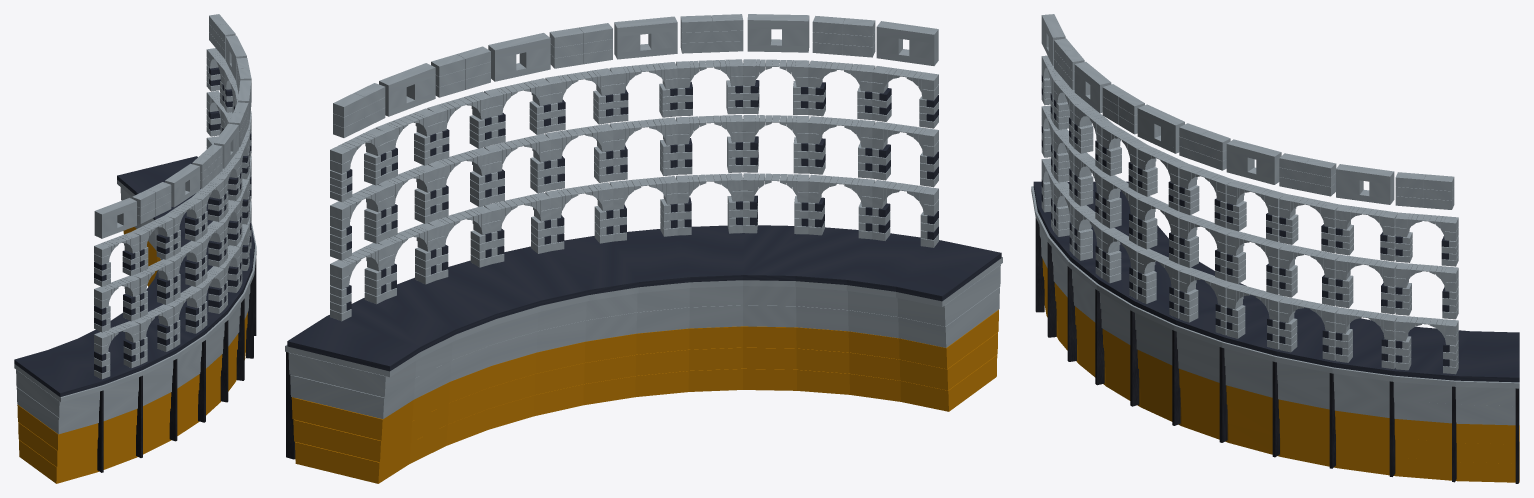
Rendered from COL_StoneMasonry_Q1.glb.
The picture shows the model from 3 angles, left to right: view 1: azimuth 30°, elevation 25°; view 2: azimuth 150°, elevation 25°; view 3: azimuth 270°, elevation 25°; orthographic projection. The views are drawn at different scales.
Parts seen in each view (by area): view 1: COL_StoneMasonry_Q1; view 2: COL_StoneMasonry_Q1; view 3: COL_StoneMasonry_Q1.
Boxes of the visible parts, bbox=[...] form: COL_StoneMasonry_Q1: bbox=[14, 14, 256, 483]; COL_StoneMasonry_Q1: bbox=[285, 14, 1002, 483]; COL_StoneMasonry_Q1: bbox=[1031, 14, 1519, 483].
Bounding box in the file's own units: 128 × 91.14 × 134.
4 materials, 4 textured.
